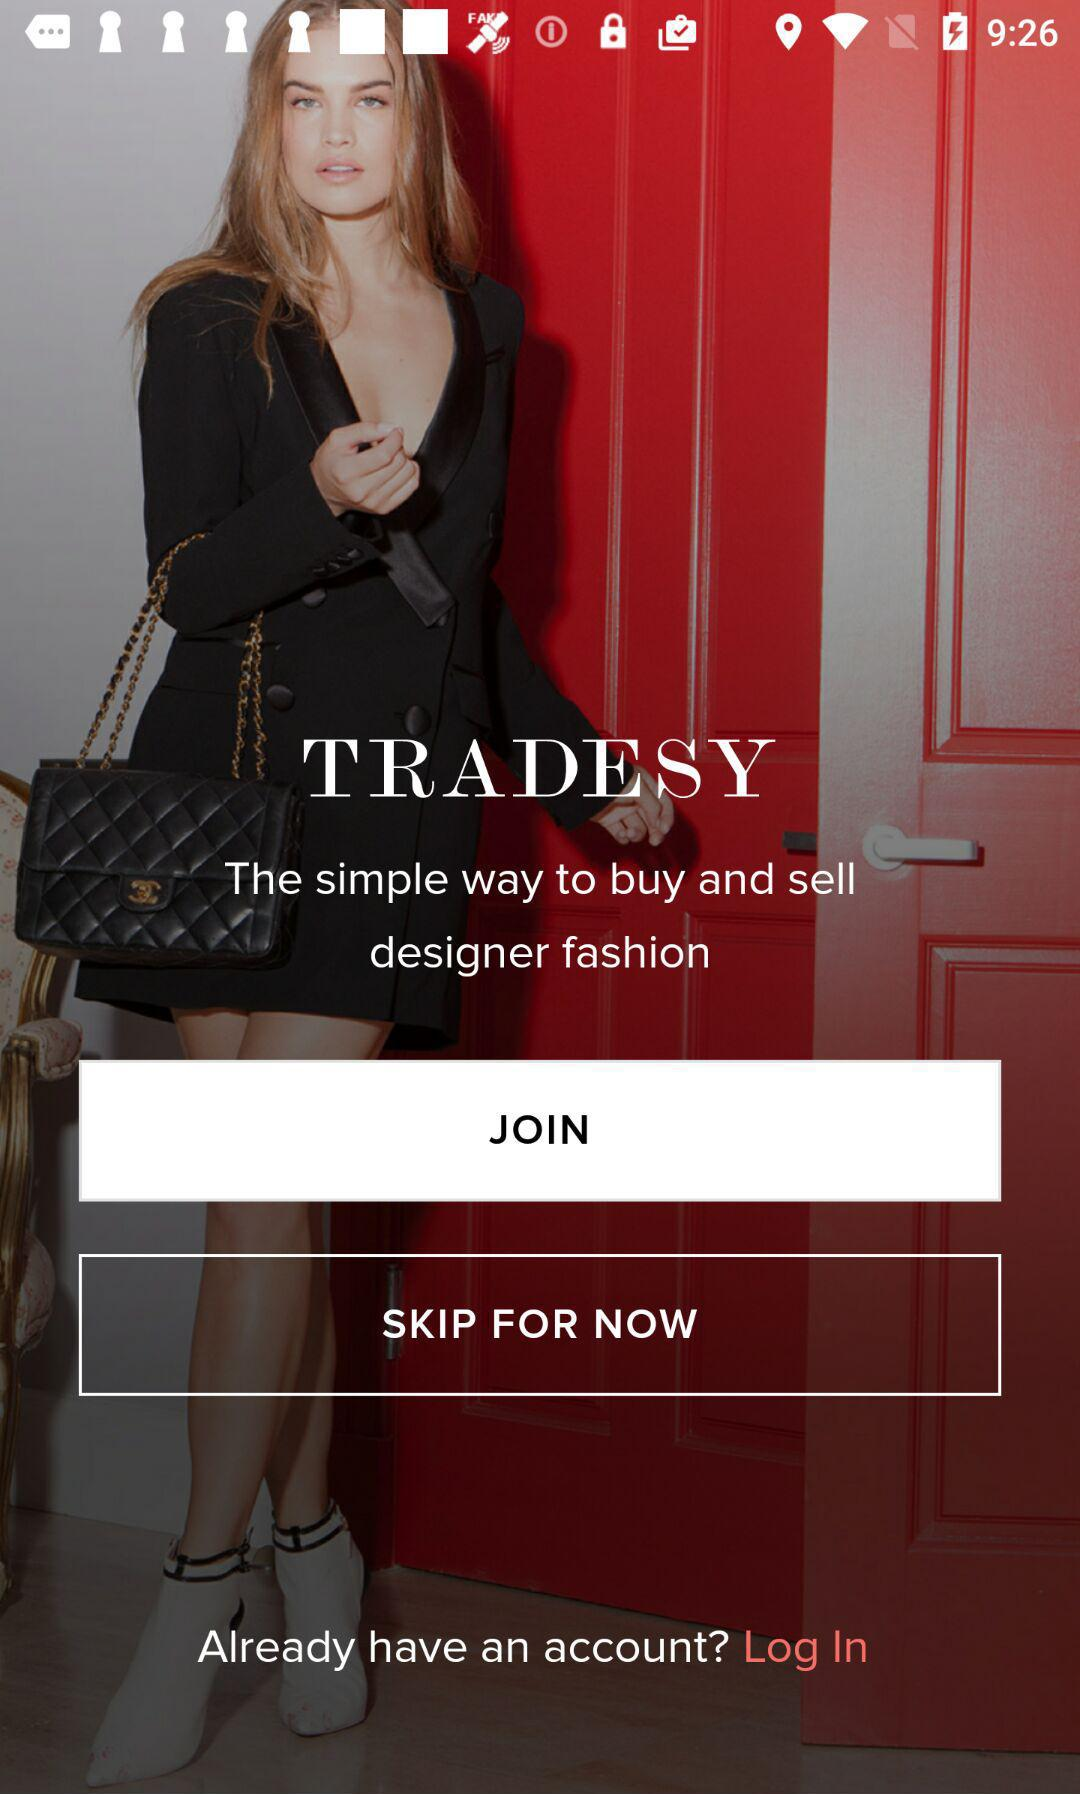BackgroundImage: (1, 56, 1080, 1794)
Text: (224, 861, 856, 980), (197, 1627, 869, 1674), (302, 738, 778, 800)
TextButton: (79, 1253, 1003, 1397), (79, 1060, 1002, 1203)
UpperTaskBar: (1, 1, 1080, 56)
